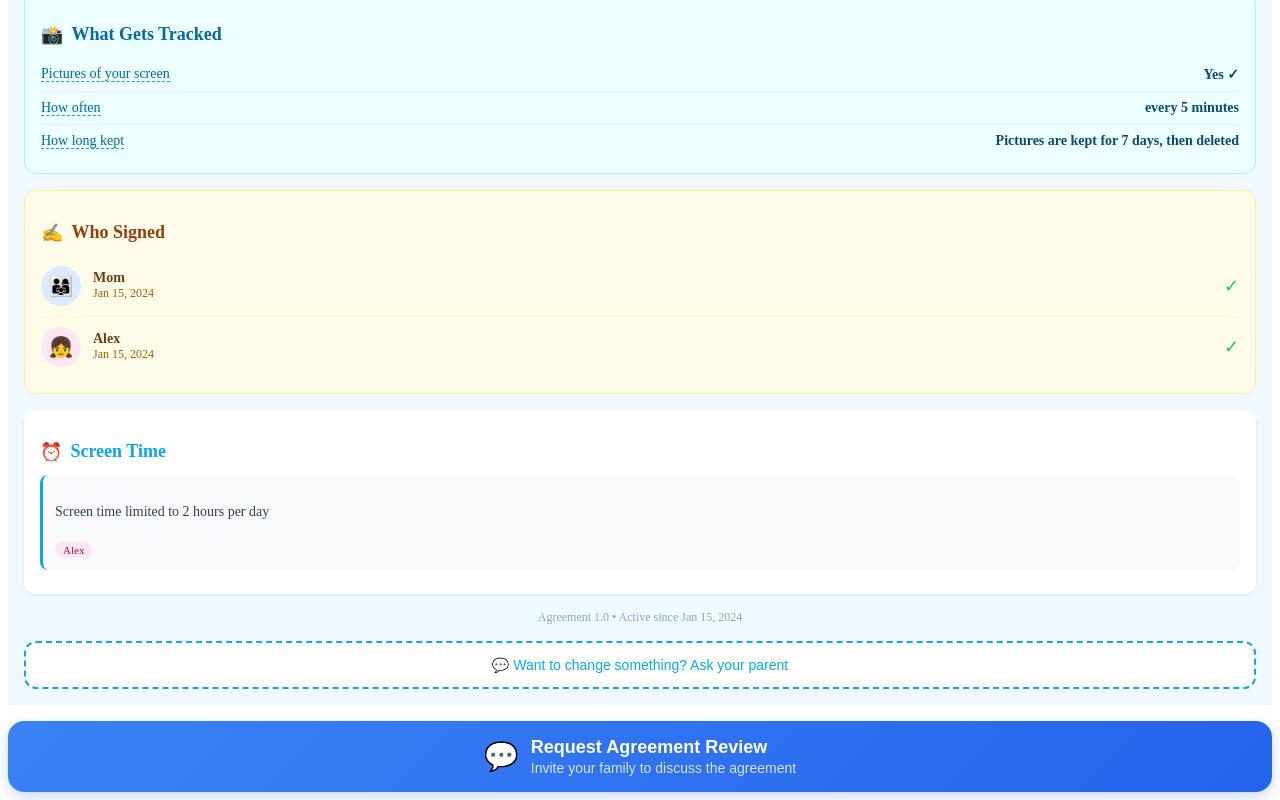
Test: ChildAgreementContainer › Task 6.3: Handle successful submission feedback › should close modal when Got it button is clicked
(page scrolled)
Click the button with test id "request-change-button" at (640, 665), box top-left (24, 641), bottom-right (1256, 689)
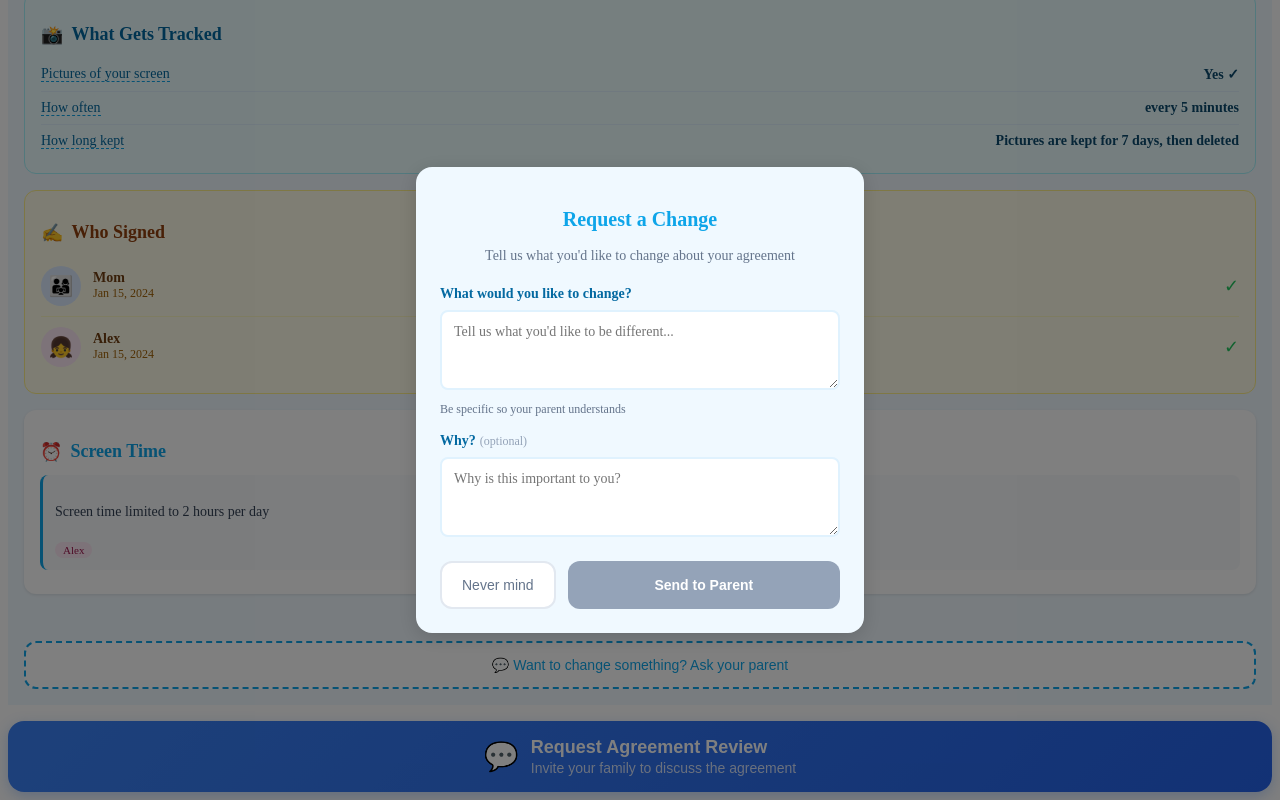
Type "More screen time" into the text box with test id "what-to-change-input" at (640, 350), box top-left (440, 310), bottom-right (840, 390)
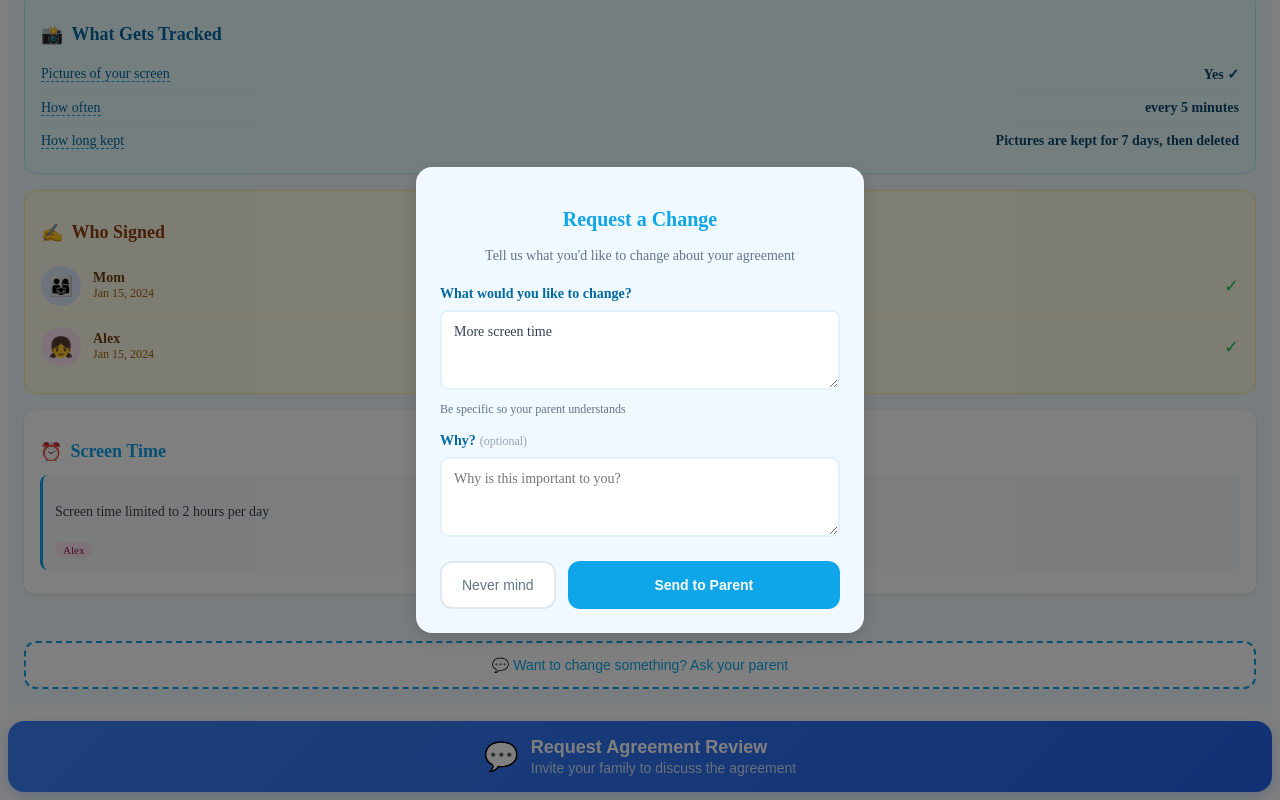
Click the button with test id "submit-button" at (704, 585), box top-left (568, 561), bottom-right (840, 609)
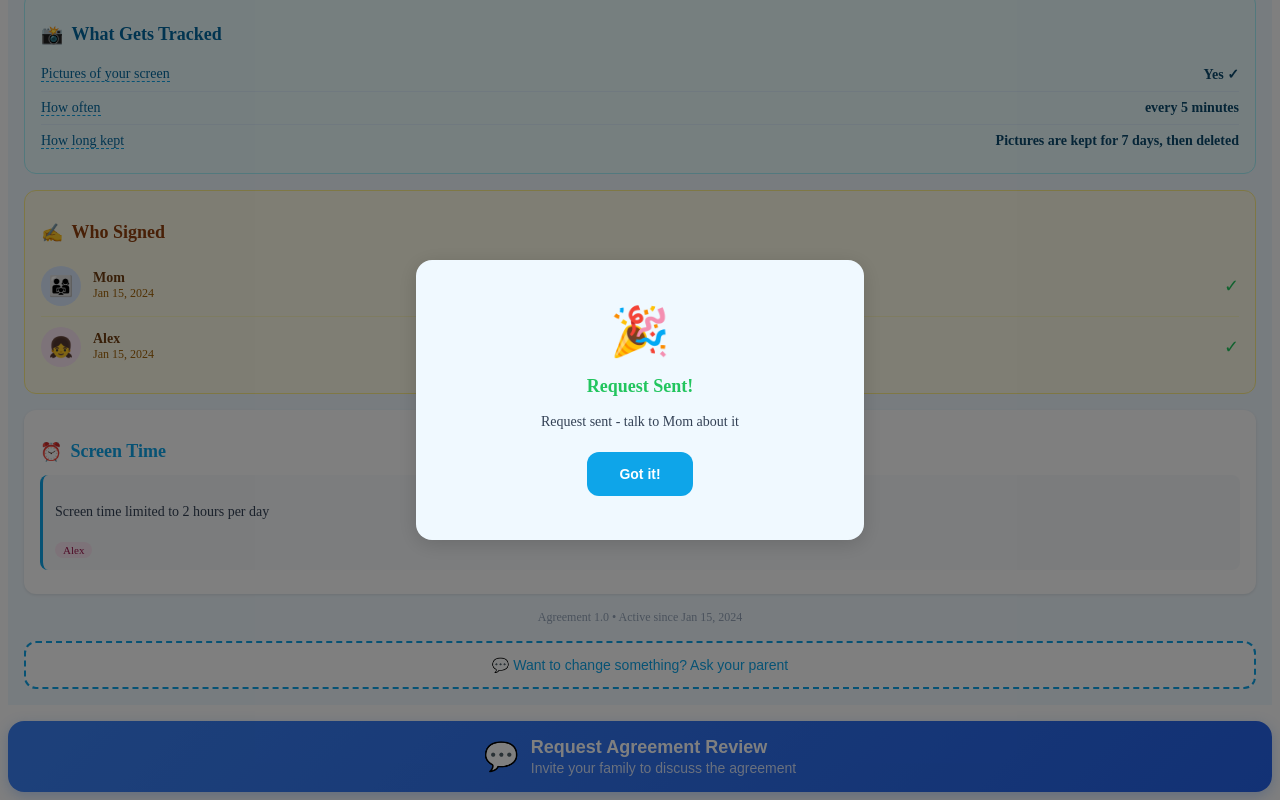
Check: the button with test id "close-button" is shown
Click the button with test id "close-button" at (640, 474), box top-left (587, 452), bottom-right (693, 496)
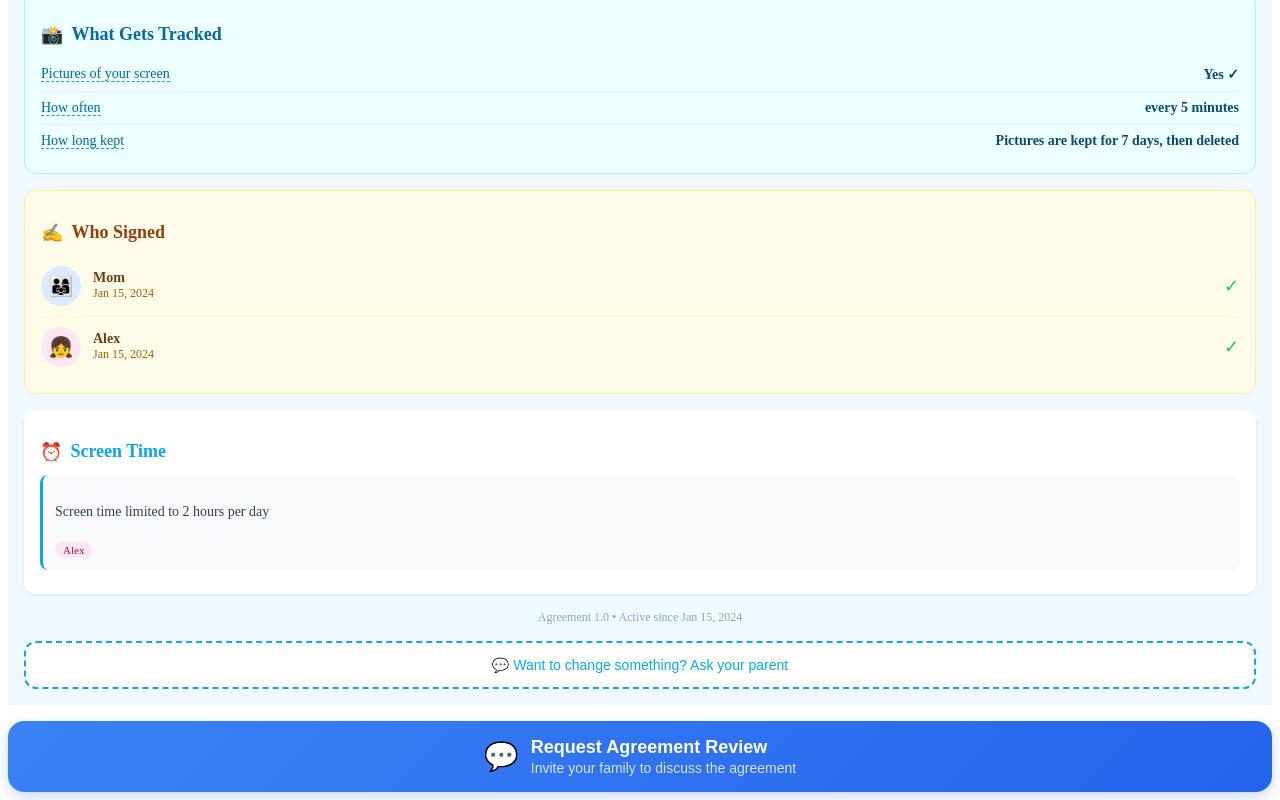
Check: the element with test id "change-request-modal" is gone
